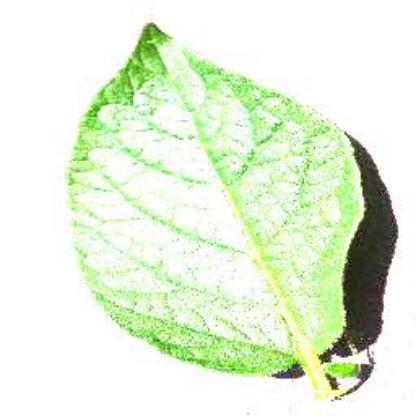Healthy-plant: (54, 20, 378, 402)
